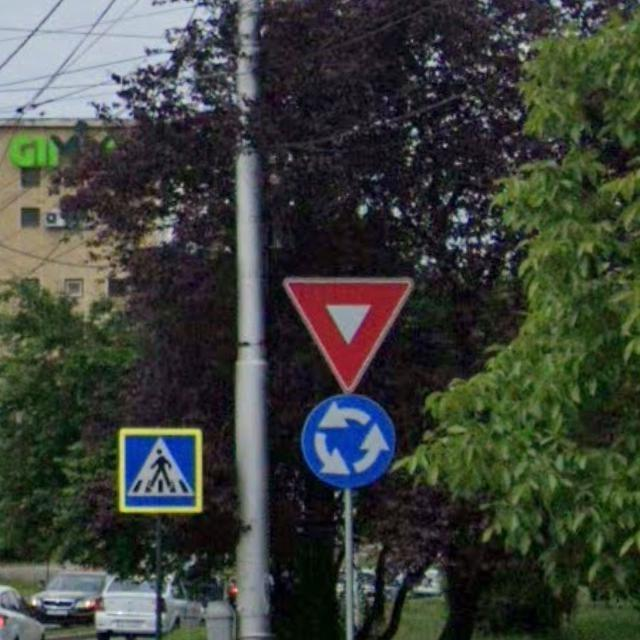info_crosswalk: (120, 430, 202, 513)
prio_give_way: (277, 272, 414, 388)
